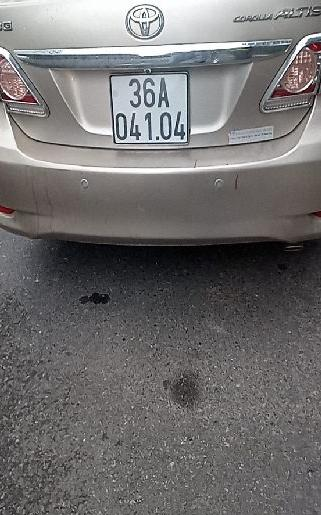Plate-iWeP: (111, 73, 190, 145)
